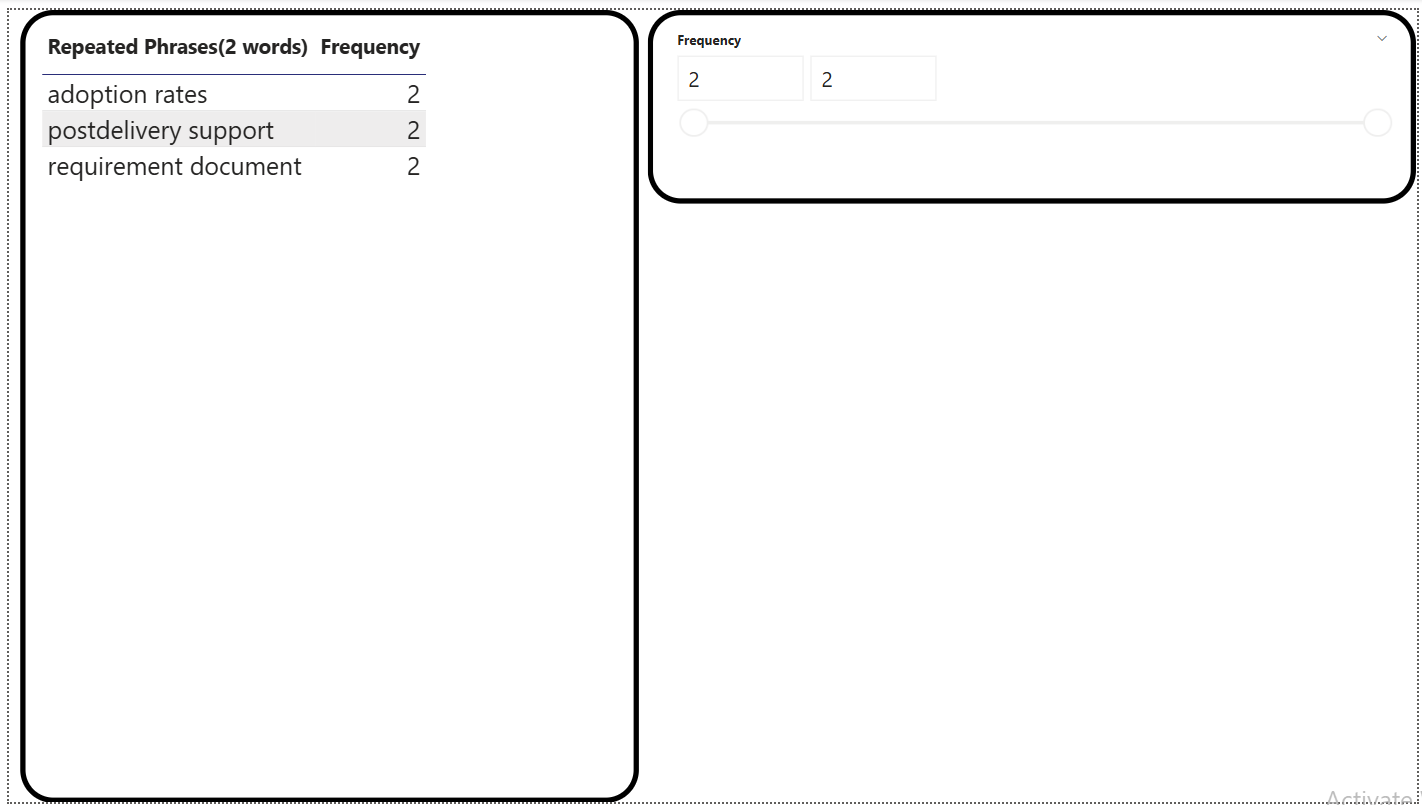

This screenshot's page, from the dashboard's own definition file:
{"tool":"powerbi","page":{"name":"Bigram","canvas":[1280,720],"ordinal":2},"visuals":[{"type":"tableEx","fields":{"Values":["Bigram.Repeated Phrases(2 words)","Bigram.Frequency"]},"box":[10.2,0,562.1,720.5],"z":0},{"type":"slicer","fields":{"Values":["Bigram.Frequency"]},"box":[581.2,0,698.8,176.3],"z":1000}]}

Visuals, with their boxes in screenshot pixels (x1, y1, x2, y2), scaled from the page's 1280x720 canvas onto the 1422x805 screenshot:
tableEx - Bigram.Repeated Phrases(2 words) x Bigram.Frequency: 11 0 636 804
slicer - Bigram.Frequency: 646 0 1421 197
